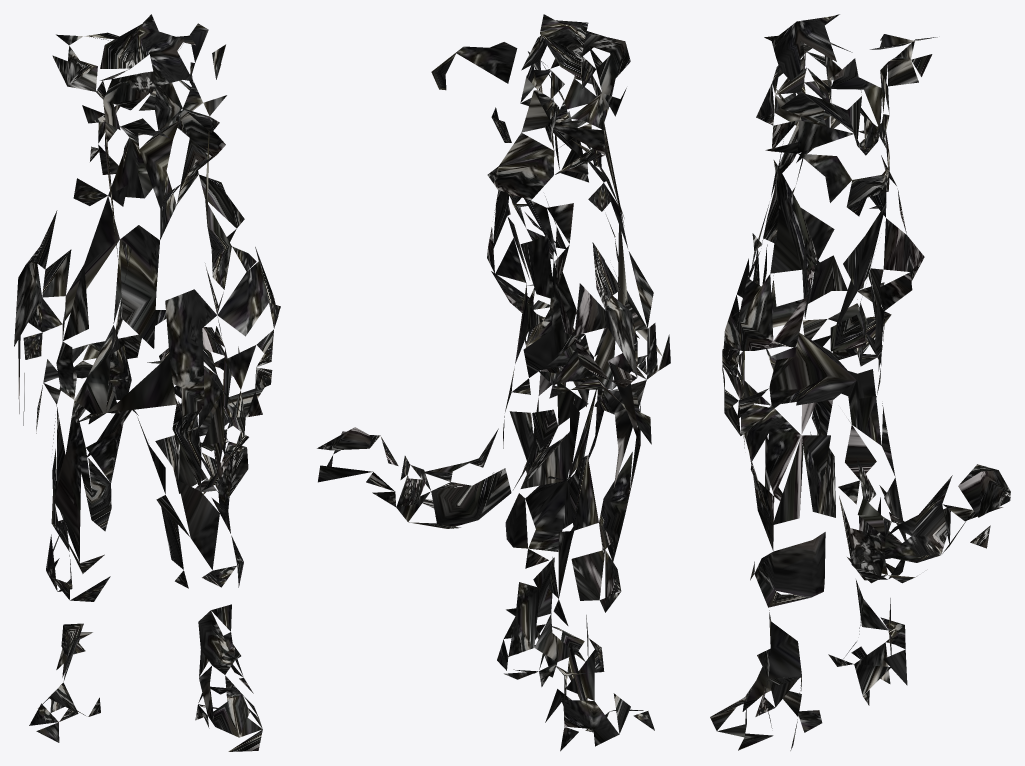
File: fenn.glb
The picture shows the model from 3 angles, left to right: view 1: azimuth 30°, elevation 25°; view 2: azimuth 150°, elevation 25°; view 3: azimuth 270°, elevation 25°; orthographic projection.
Parts seen in each view (by area): view 1: Fenn; view 2: Fenn; view 3: Fenn.
Part boxes in pixels (x1,y1,x2,y2): Fenn: (14,14,280,751); Fenn: (317,14,670,751); Fenn: (710,14,1010,750).
Bounding box in the file's own units: 0.7636 × 1.82 × 0.7229.
1 material, 1 textured.
